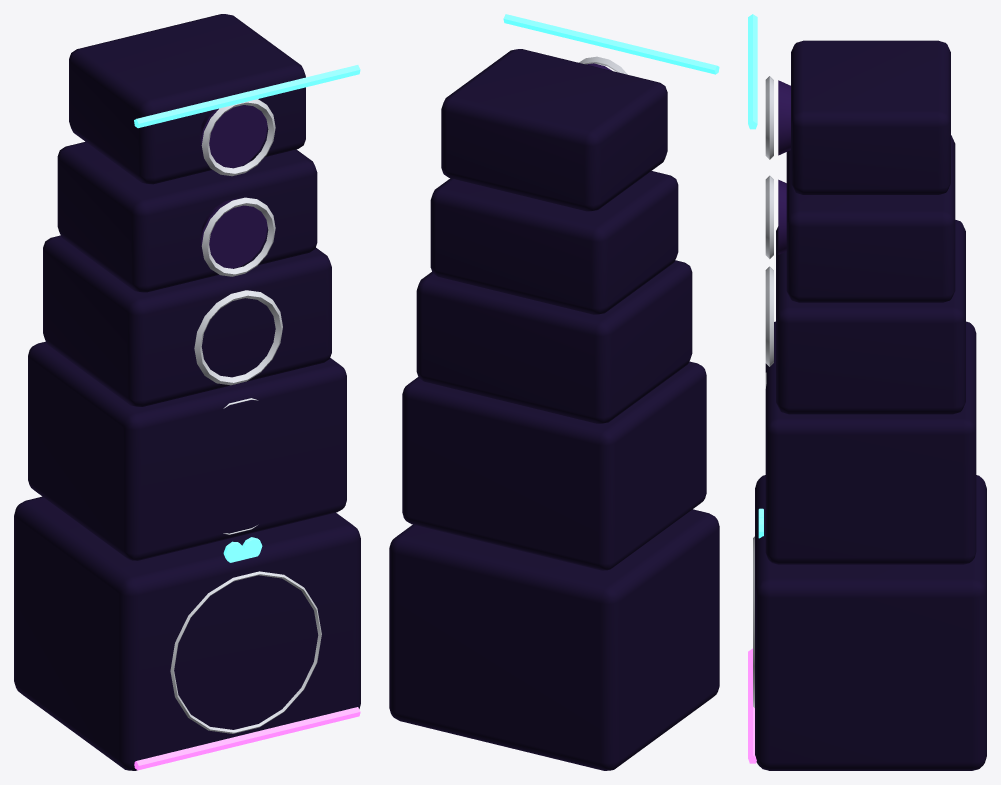
File: speaker_stack_neon.glb
3 renders of one model, left to right at view 1: azimuth 30°, elevation 25°; view 2: azimuth 150°, elevation 25°; view 3: azimuth 270°, elevation 25°, orthographic. The views are drawn at different scales.
Parts seen in each view (by area): view 1: speaker_stack_neon; view 2: speaker_stack_neon; view 3: speaker_stack_neon.
Part boxes in pixels (x1=…): speaker_stack_neon: x1=14, y1=14, x2=360, y2=770; speaker_stack_neon: x1=389, y1=14, x2=719, y2=770; speaker_stack_neon: x1=748, y1=14, x2=986, y2=770.
Size of the model in its own units: 0.65 by 1.7 by 0.5664.
